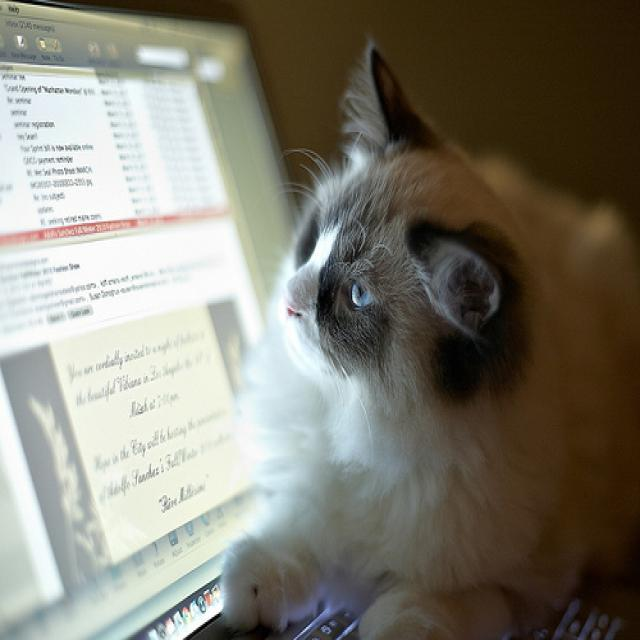Ragdoll: (267, 34, 536, 417)
